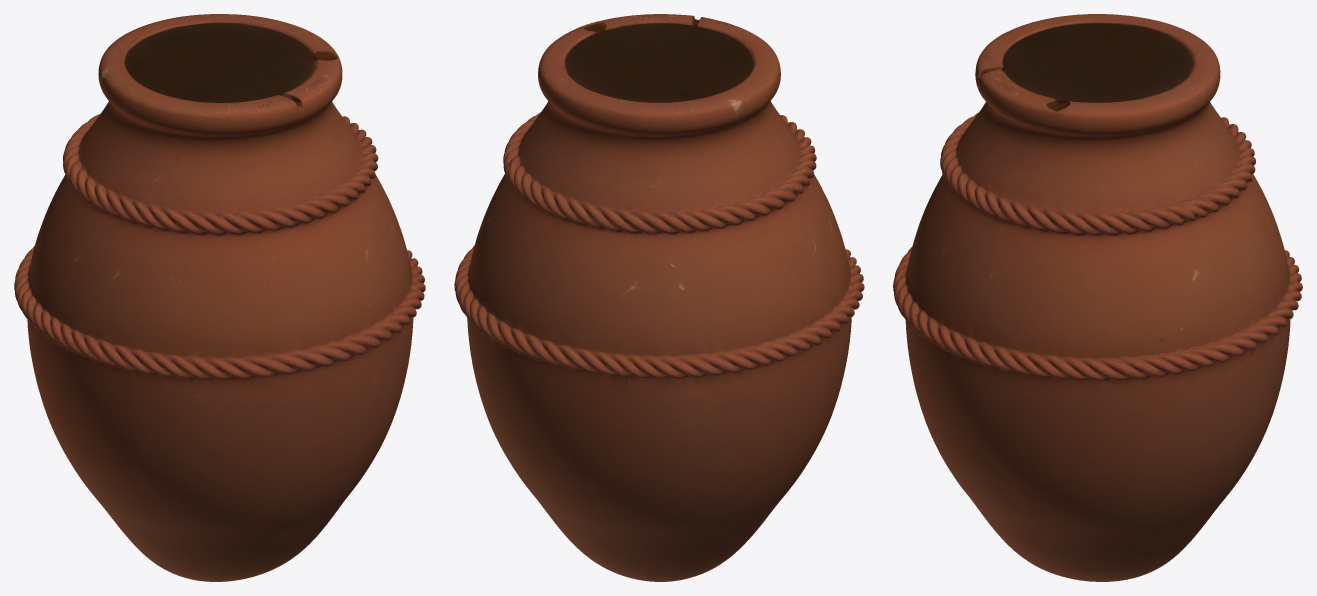
Rendered from pot_opt.glb.
The picture shows the model from 3 angles, left to right: view 1: azimuth 30°, elevation 25°; view 2: azimuth 150°, elevation 25°; view 3: azimuth 270°, elevation 25°; orthographic projection.
Visible parts, largest first — view 1: material; view 2: material; view 3: material.
Part boxes in pixels (x1,y1,x2,y2): material: (14,14,425,581); material: (454,14,864,581); material: (893,14,1302,581).
Size of the model in its own units: 0.7636 by 1.05 by 0.7622.
1 material, 1 textured.
